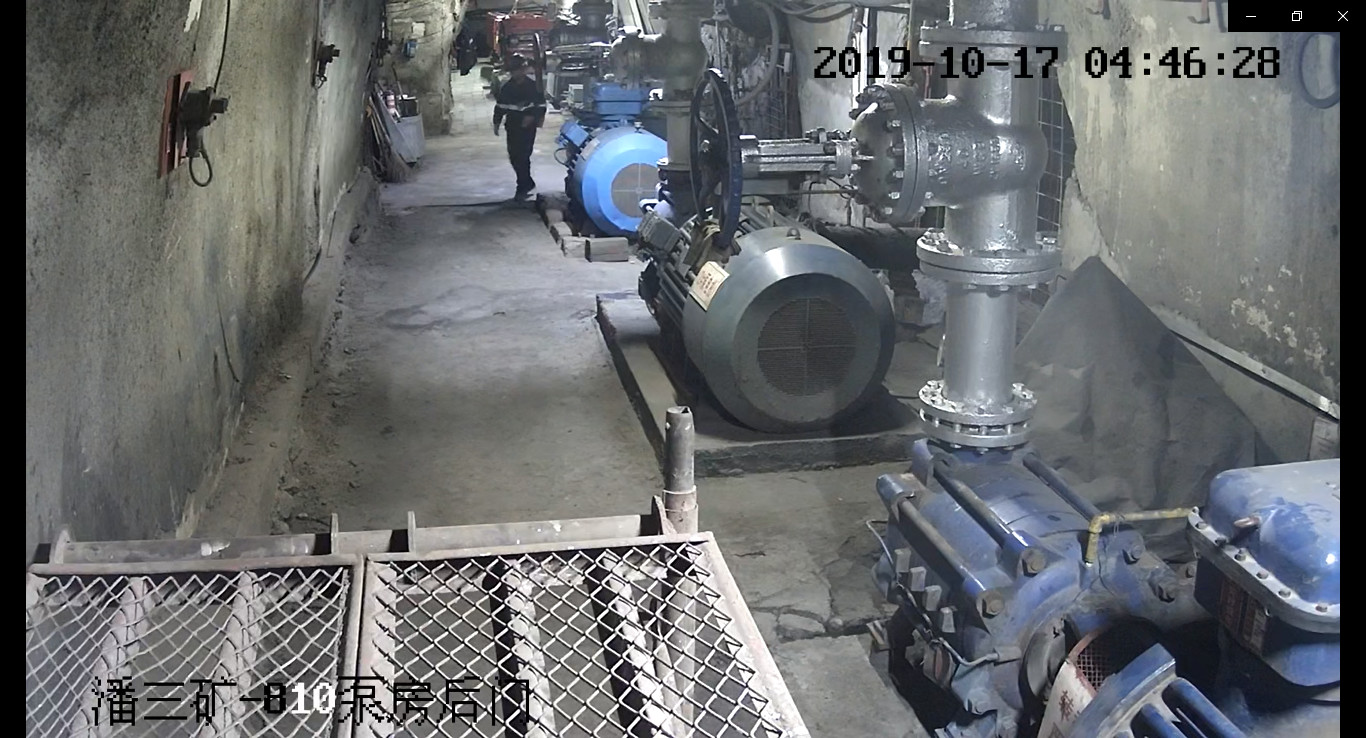helmet: (502, 52, 527, 71)
